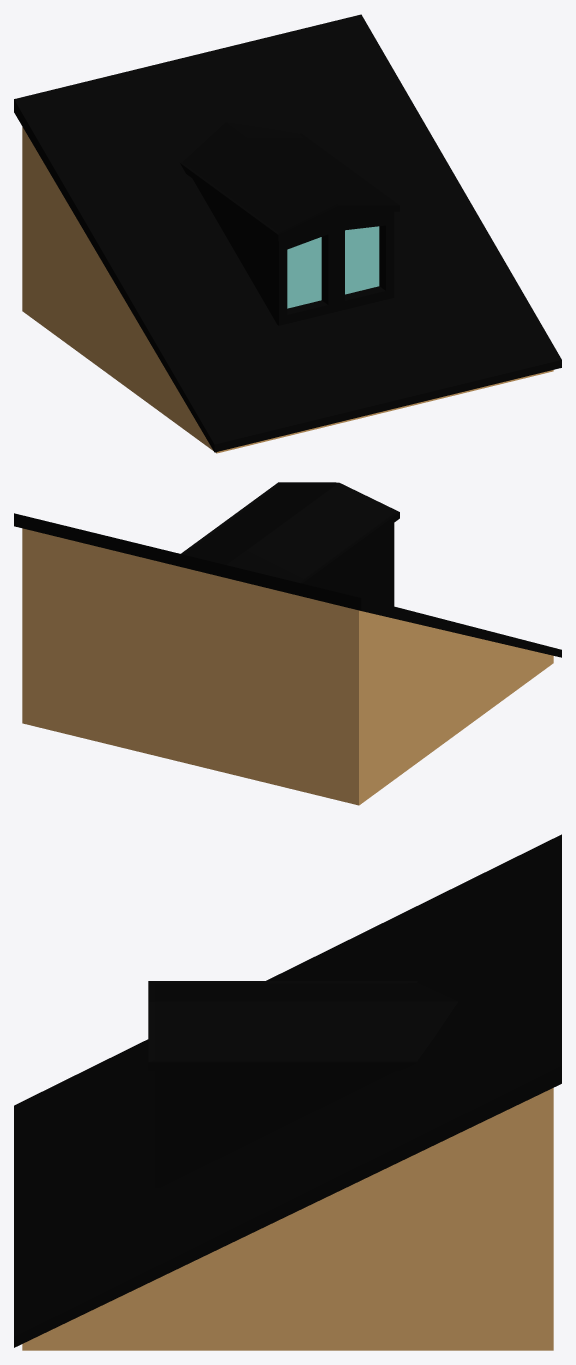
File: buildingTop3.fbx
3 renders of one model, top to bottom at view 1: azimuth 30°, elevation 25°; view 2: azimuth 150°, elevation 25°; view 3: azimuth 270°, elevation 25°, orthographic. The views are drawn at different scales.
Visible parts, largest first — view 1: Roof.001; view 2: Roof.001; view 3: Roof.001.
Boxes of the visible parts, x1,y1,x2,y2 form: Roof.001: (14, 14, 561, 453); Roof.001: (14, 482, 561, 805); Roof.001: (14, 834, 561, 1350).
Size of the model in its own units: 103 by 59.9 by 103.
